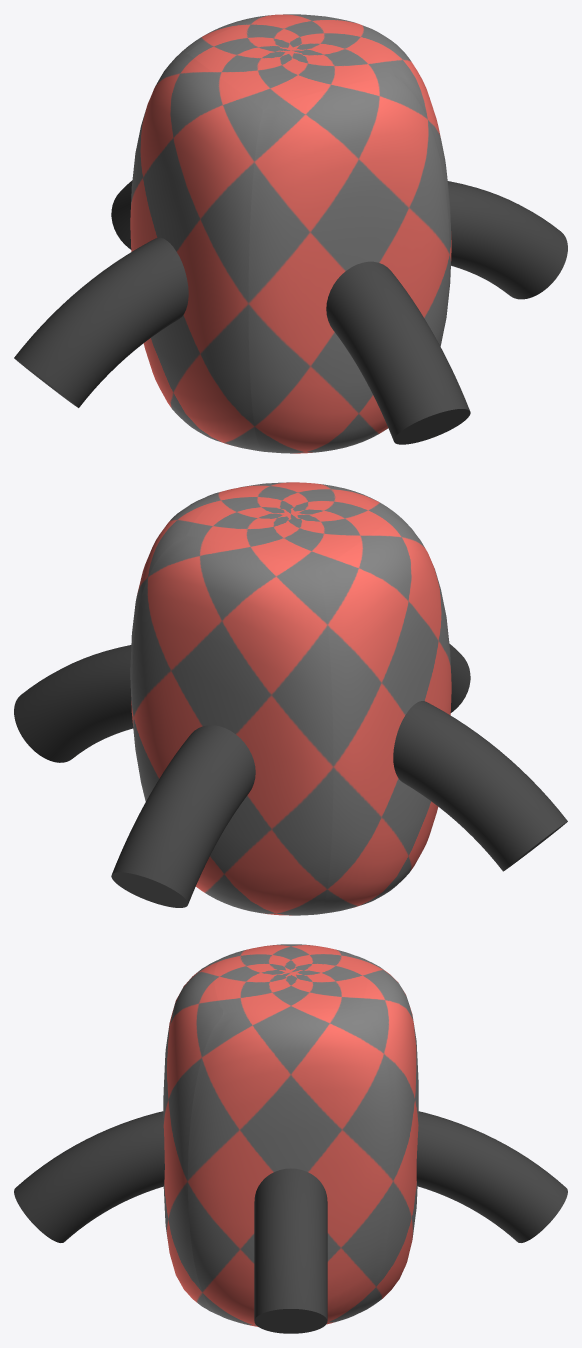
Rendered from Body(Oblong)+Colour(More_Red)+Pattern(Diamond)+Arm_Angle(Bent_Down).fbx.
The picture shows the model from 3 angles, top to bottom: view 1: azimuth 30°, elevation 25°; view 2: azimuth 150°, elevation 25°; view 3: azimuth 270°, elevation 25°; orthographic projection. The views are drawn at different scales.
Visible parts, largest first — view 1: Body(Oblong)+Colour(More_Red)+Pattern(Diamond)+Arm_Angle(Ben (×5); view 2: Body(Oblong)+Colour(More_Red)+Pattern(Diamond)+Arm_Angle(Ben (×5); view 3: Body(Oblong)+Colour(More_Red)+Pattern(Diamond)+Arm_Angle(Ben (×4).
Part boxes in pixels (x1,y1,x2,y2): Body(Oblong)+Colour(More_Red)+Pattern(Diamond)+Arm_Angle(Ben (×5): (14, 14, 567, 453); Body(Oblong)+Colour(More_Red)+Pattern(Diamond)+Arm_Angle(Ben (×5): (14, 482, 567, 915); Body(Oblong)+Colour(More_Red)+Pattern(Diamond)+Arm_Angle(Ben (×4): (14, 944, 567, 1333).
Bounding box in the file's own units: 60.67 × 40 × 60.67.
2 materials, 2 textured.
